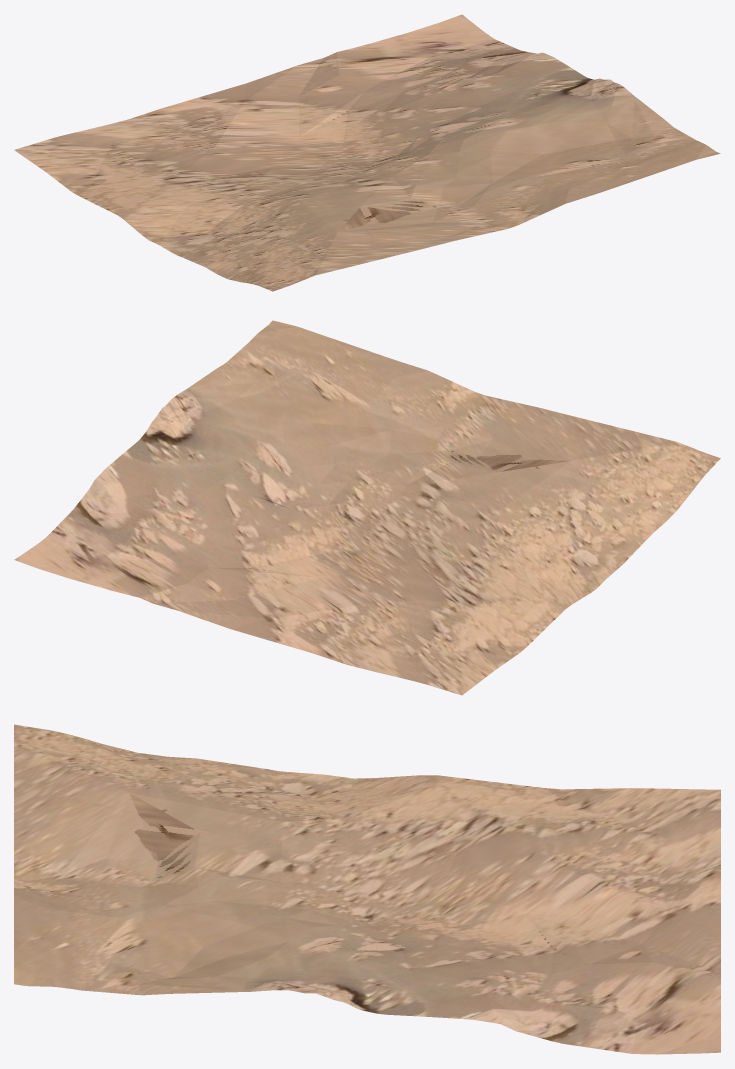
3 views of the same model, one above another, from view 1: azimuth 30°, elevation 25°; view 2: azimuth 150°, elevation 25°; view 3: azimuth 270°, elevation 25° (orthographic). The views are drawn at different scales.
Size of the model in its own units: 1.04 by 0.1701 by 1.04.
2 materials, 2 textured.
